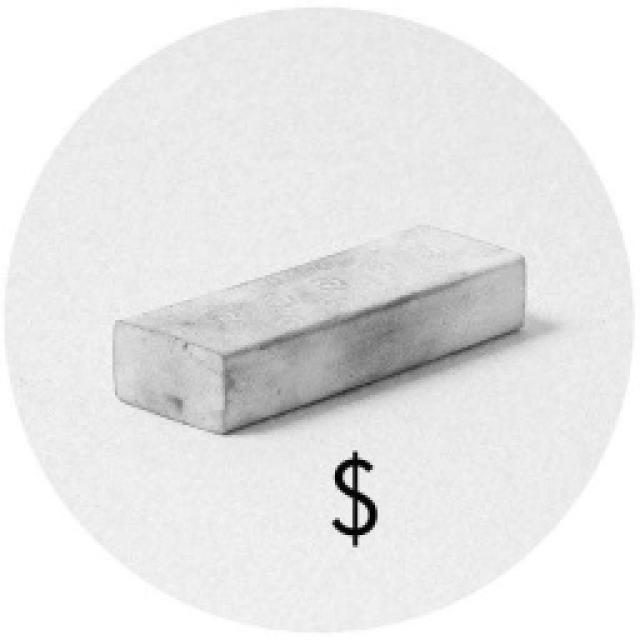Silgi: (109, 223, 528, 436)
